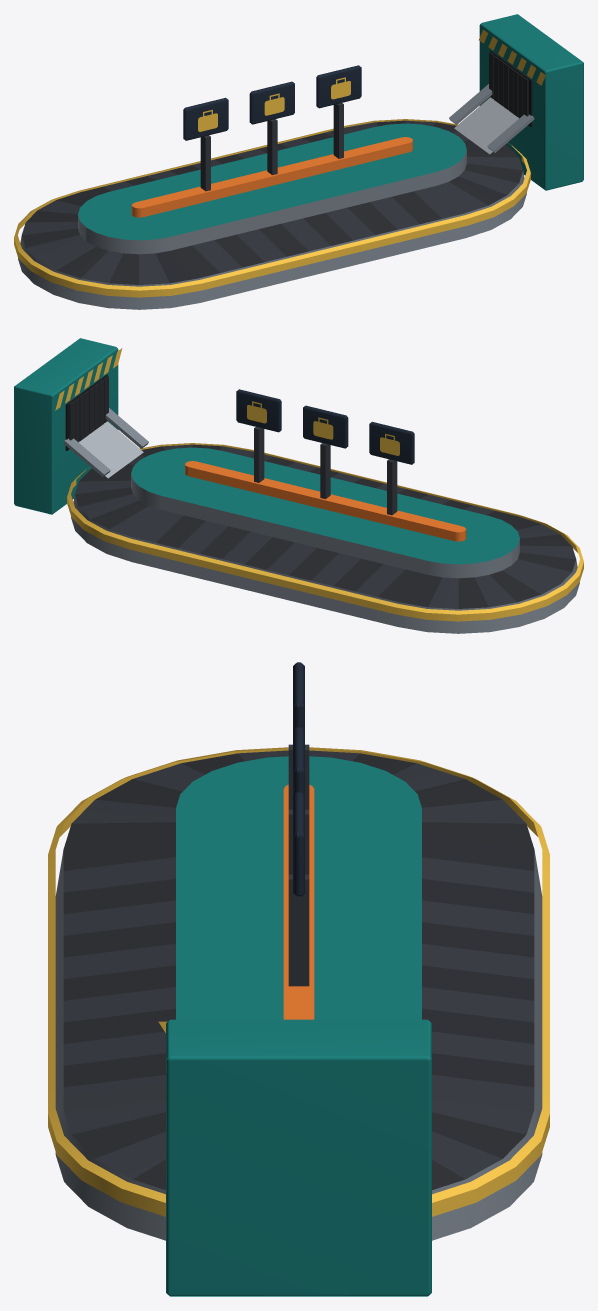
File: CintaEquipaje.fbx
The picture shows the model from 3 angles, top to bottom: view 1: azimuth 30°, elevation 25°; view 2: azimuth 150°, elevation 25°; view 3: azimuth 270°, elevation 25°; orthographic projection. The views are drawn at different scales.
Parts seen in each view (by area): view 1: CintaEquipaje; view 2: CintaEquipaje; view 3: CintaEquipaje.
Part boxes in pixels (<box>): CintaEquipaje: <box>14,14,583,309</box>; CintaEquipaje: <box>14,338,583,633</box>; CintaEquipaje: <box>48,662,549,1296</box>.
Size of the model in its own units: 23.5 by 6 by 9.8.
Materials: 1 (1 with a texture image).
